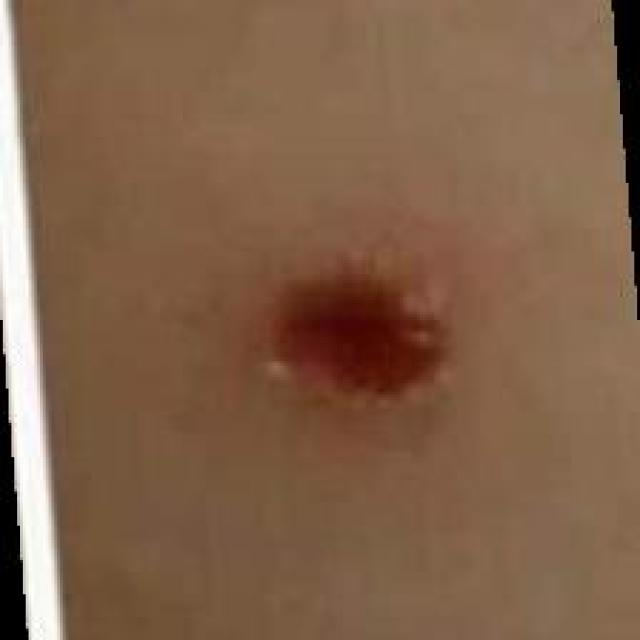others: (71, 42, 535, 500)
